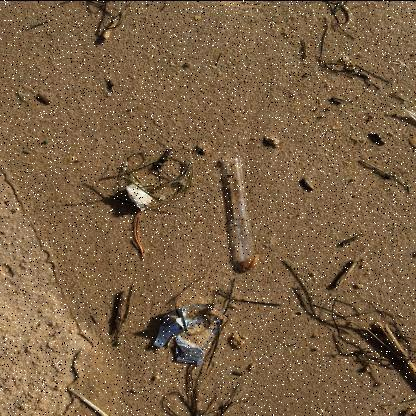foam: (126, 182, 152, 210)
plastic: (153, 302, 225, 364)
